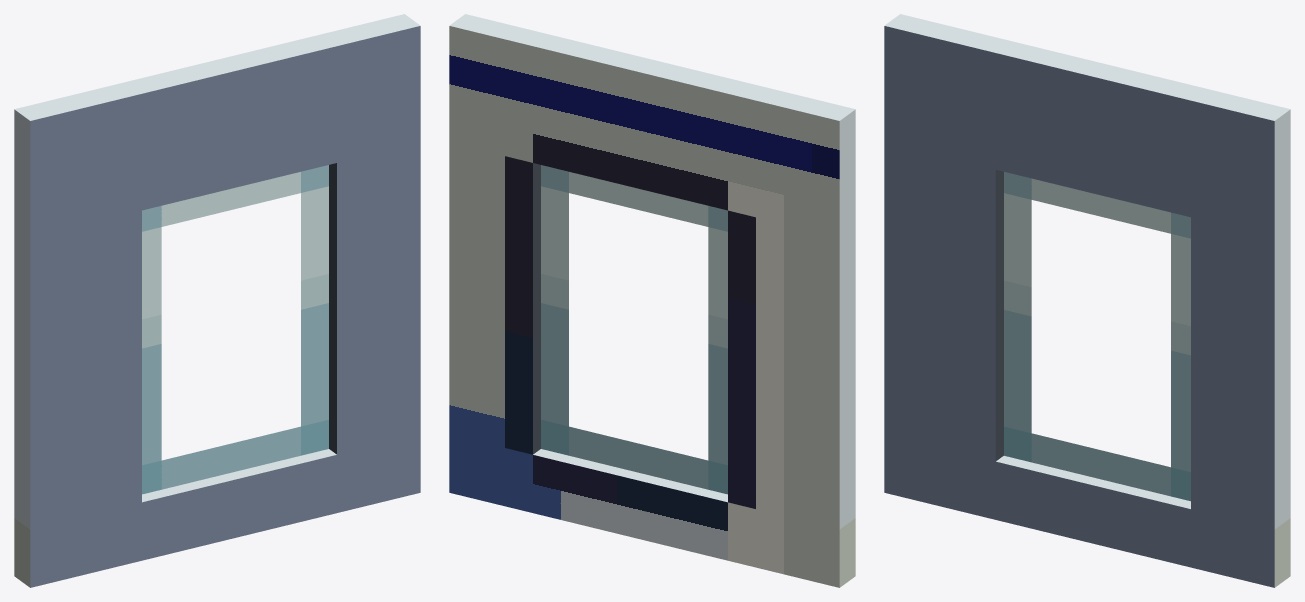
File: df21_cabin_door_upper_left.obj
The picture shows the model from 3 angles, left to right: view 1: azimuth 30°, elevation 25°; view 2: azimuth 150°, elevation 25°; view 3: azimuth 330°, elevation 25°; orthographic projection.
Visible parts, largest first — view 1: jss; view 2: jss; view 3: jss.
Boxes of the visible parts, x1=… form: jss: x1=14, y1=14, x2=420, y2=587; jss: x1=449, y1=14, x2=855, y2=587; jss: x1=884, y1=14, x2=1290, y2=587.
Bounding box in the file's own units: 0.875 × 1 × 0.0625.
